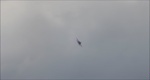maybay_muctieu: (75, 37, 83, 48)
